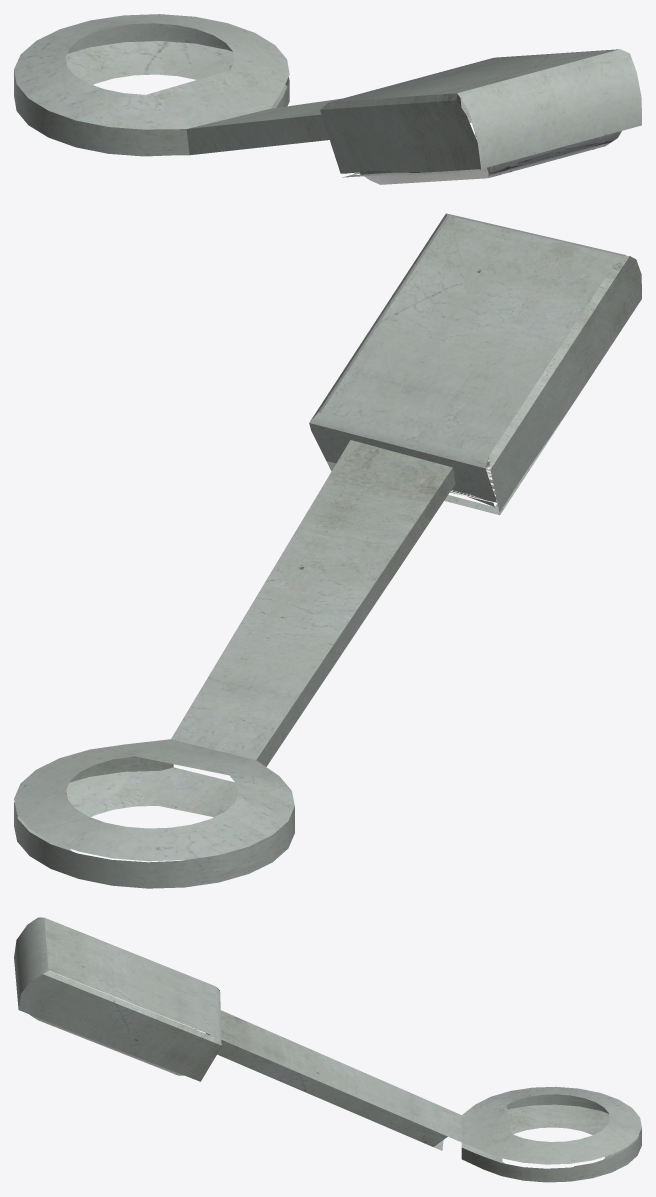
The model's file is Lamp_M_01.fbx.
3 views of the same model, one above another, from view 1: azimuth 30°, elevation 25°; view 2: azimuth 150°, elevation 25°; view 3: azimuth 270°, elevation 25° (orthographic). The views are drawn at different scales.
Parts seen in each view (by area): view 1: Cylinder (45); view 2: Cylinder (45); view 3: Cylinder (45).
Boxes of the visible parts, x1,y1,x2,y2 form: Cylinder (45): (14,14,641,184); Cylinder (45): (14,213,641,888); Cylinder (45): (14,917,641,1182).
Size of the model in its own units: 54.06 by 67.96 by 184.
